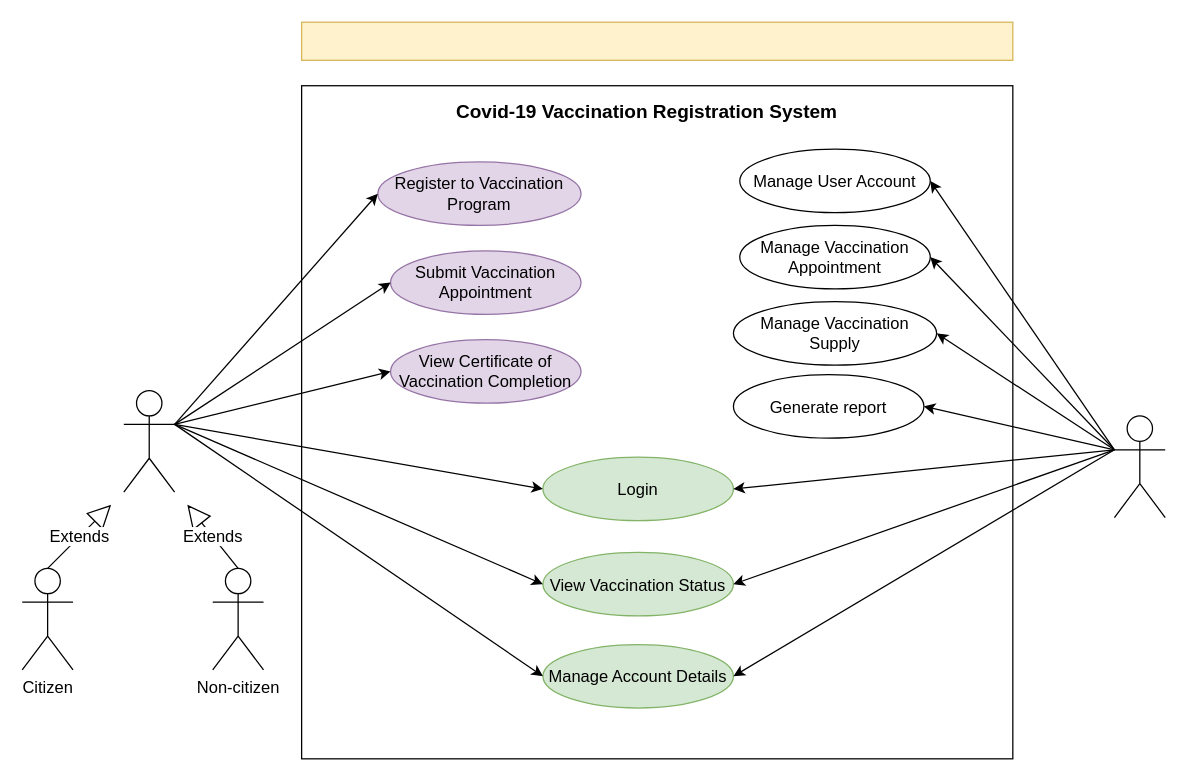
The diagram is 1199 pixels wide and 781 high, and some of its shapes have lost their labels. The shapes that lost their labels are listed below. From the top down, each one's centre as x and y in pixels, then its label:
At [656,40]: "Overview of the Use Case Diagram".
At [149,440]: "People".
At [1139,466]: "Personnel".
